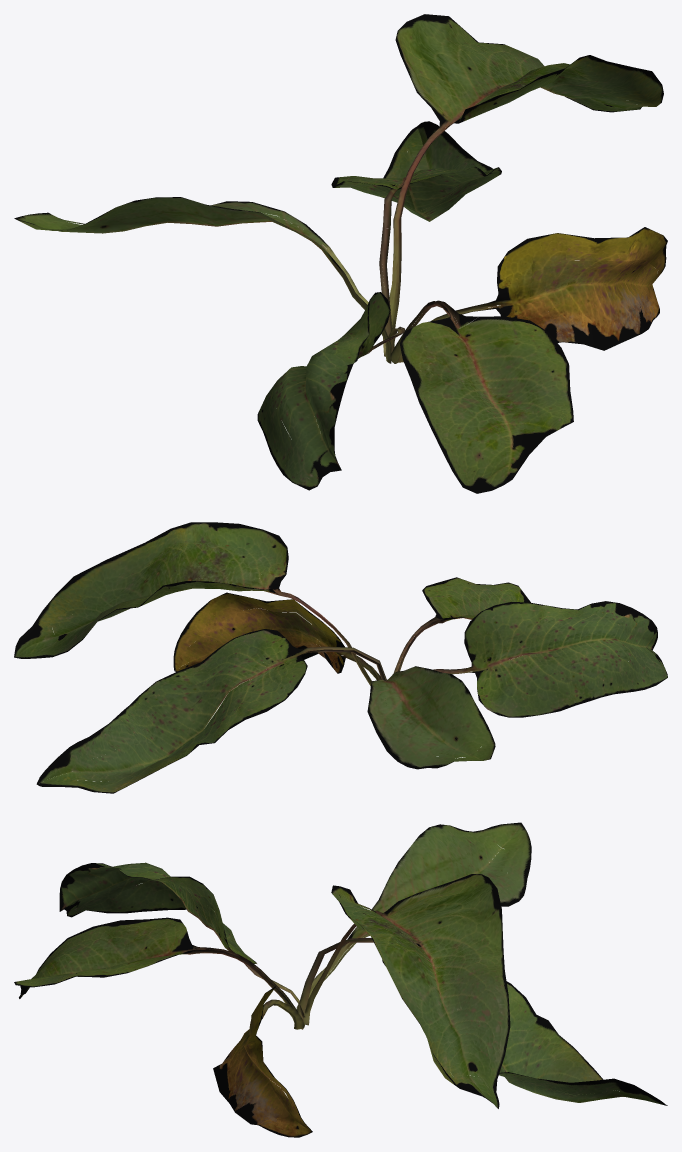
File: weed_plant_02_v2.glb
3 renders of one model, top to bottom at view 1: azimuth 30°, elevation 25°; view 2: azimuth 150°, elevation 25°; view 3: azimuth 270°, elevation 25°, orthographic. The views are drawn at different scales.
Parts seen in each view (by area): view 1: lod0; view 2: lod0; view 3: lod0.
Boxes of the visible parts, <box> form: lod0: <box>14,14,667,493</box>; lod0: <box>14,522,667,793</box>; lod0: <box>14,822,667,1137</box>.
Size of what is drawn, in the model's own units: 0.1876 by 0.0677 by 0.1985.
1 material, 1 textured.
